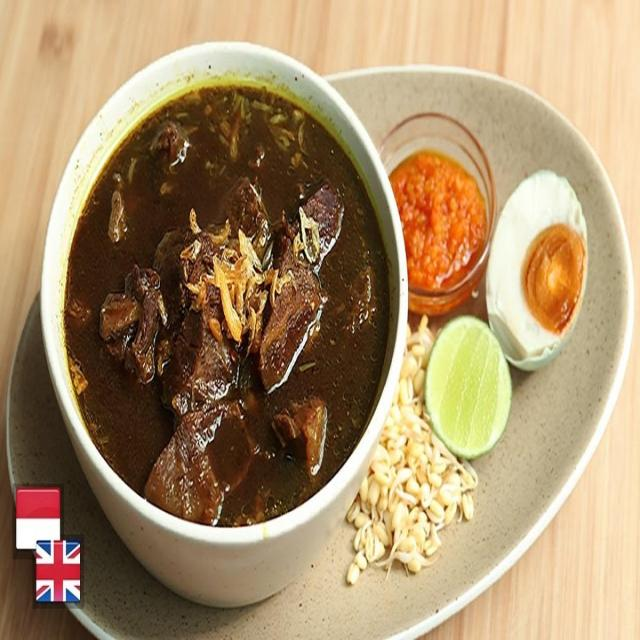Rawon: (72, 97, 384, 513)
